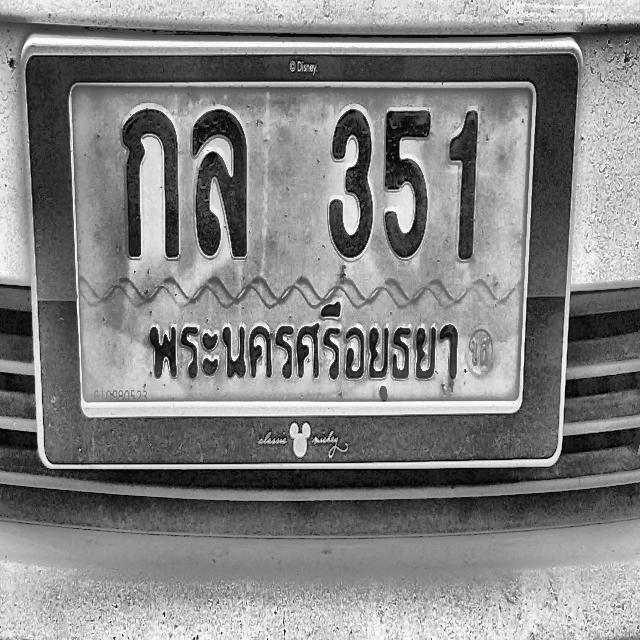license-plate: (18, 19, 598, 498)
